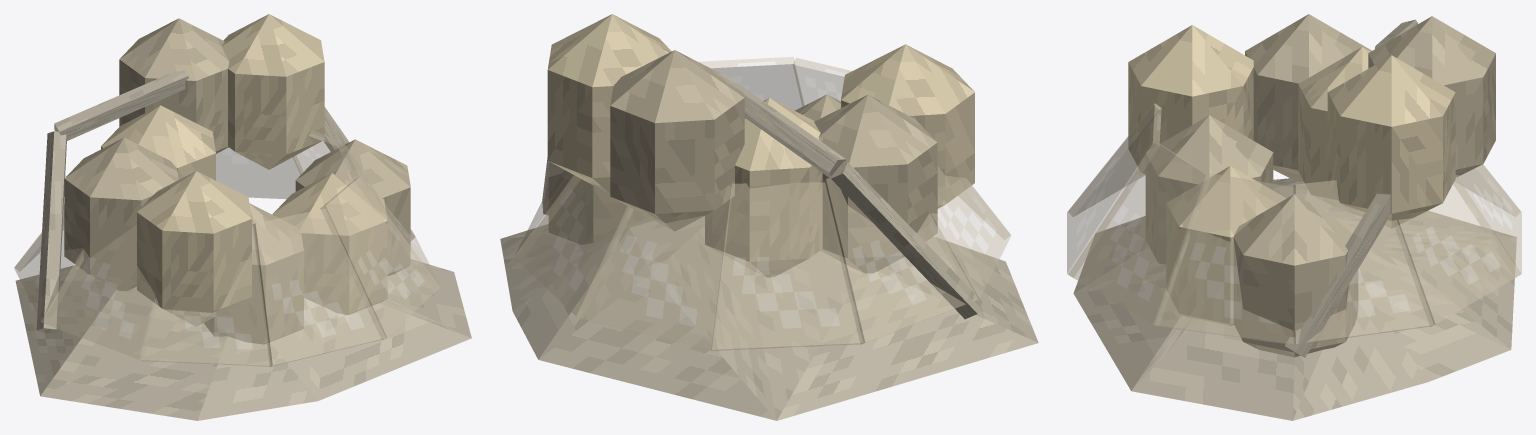
The model's file is f_egg_sackbw.glb.
3 renders of one model, left to right at view 1: azimuth 30°, elevation 25°; view 2: azimuth 150°, elevation 25°; view 3: azimuth 270°, elevation 25°, orthographic. The views are drawn at different scales.
Visible parts, largest first — view 1: block_round-off-white-egg (×8), block_draped-translucent-silk-membrane (×8), block_silken-egg-nest, block_bundling-silk-strand-1 (×2), block_bundling-silk-strand-2; view 2: block_round-off-white-egg (×7), block_silken-egg-nest, block_draped-translucent-silk-membrane (×9), block_bundling-silk-strand-1, block_bundling-silk-strand-2; view 3: block_round-off-white-egg (×8), block_draped-translucent-silk-membrane (×8), block_silken-egg-nest, block_bundling-silk-strand-1.
Part boxes in pixels (bbox=[...]): block_round-off-white-egg (×8): bbox=[64, 14, 410, 344]; block_draped-translucent-silk-membrane (×8): bbox=[14, 130, 440, 366]; block_silken-egg-nest: bbox=[15, 259, 471, 420]; block_bundling-silk-strand-1 (×2): bbox=[36, 107, 414, 333]; block_bundling-silk-strand-2: bbox=[54, 70, 188, 141]; block_round-off-white-egg (×7): bbox=[547, 14, 974, 277]; block_silken-egg-nest: bbox=[500, 216, 1038, 420]; block_draped-translucent-silk-membrane (×9): bbox=[514, 57, 1010, 350]; block_bundling-silk-strand-1: bbox=[830, 161, 982, 319]; block_bundling-silk-strand-2: bbox=[718, 73, 845, 178]; block_round-off-white-egg (×8): bbox=[1128, 14, 1495, 357]; block_draped-translucent-silk-membrane (×8): bbox=[1067, 103, 1521, 344]; block_silken-egg-nest: bbox=[1073, 178, 1516, 420]; block_bundling-silk-strand-1: bbox=[1285, 193, 1390, 357].
Size of the model in its own units: 0.6268 by 0.3553 by 0.5061.
Materials: 2 (2 with a texture image).
